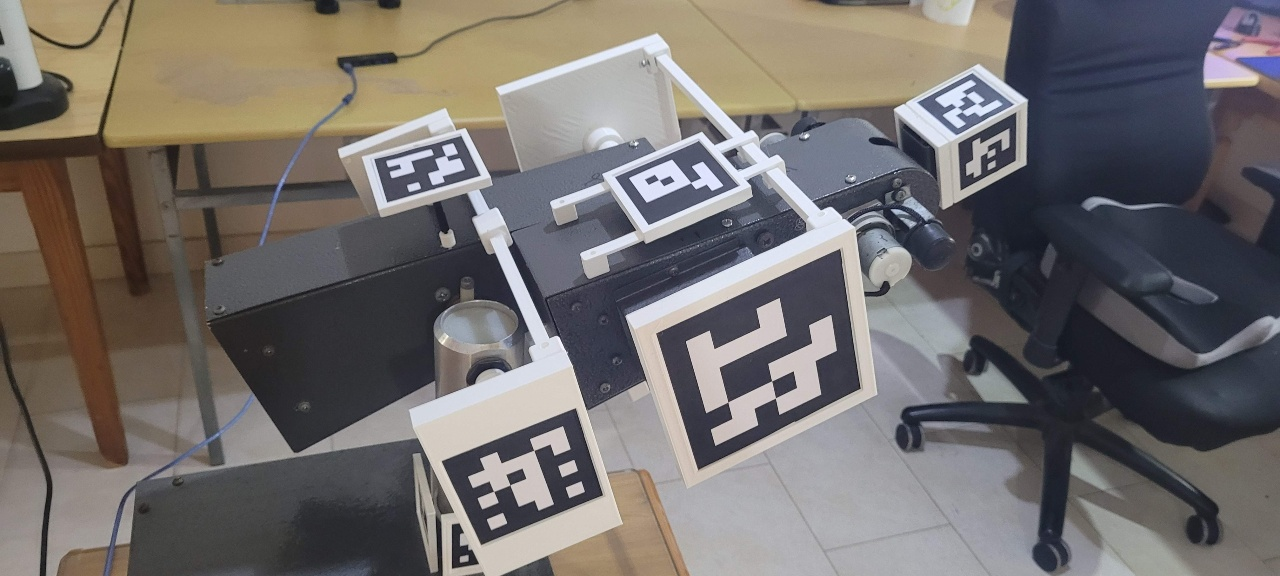Robot: (201, 30, 1029, 576)
